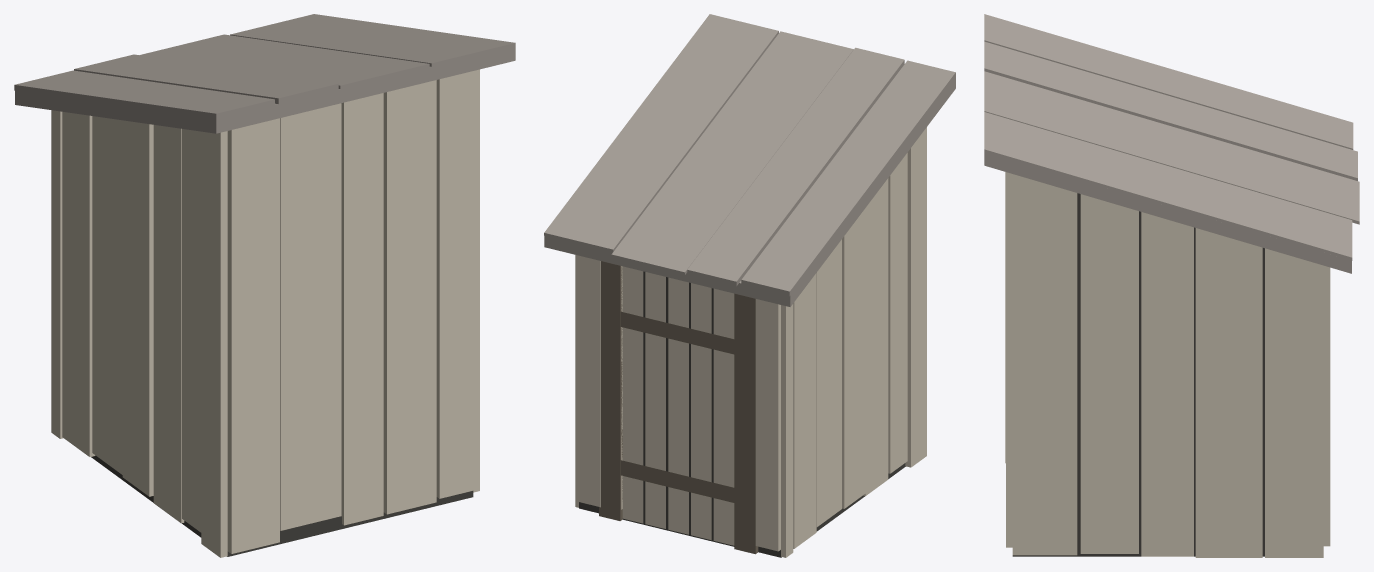
File: recon_1835_north_a3_051__inferred_1835.glb
3 views of the same model, side by side, from view 1: azimuth 30°, elevation 25°; view 2: azimuth 150°, elevation 25°; view 3: azimuth 270°, elevation 25° (orthographic). The views are drawn at different scales.
Visible parts, largest first — view 1: recon_1835_north_a3_051__inferred_1835; view 2: recon_1835_north_a3_051__inferred_1835; view 3: recon_1835_north_a3_051__inferred_1835.
Boxes of the visible parts, x1,y1,x2,y2 form: recon_1835_north_a3_051__inferred_1835: (14, 14, 515, 557); recon_1835_north_a3_051__inferred_1835: (544, 14, 955, 557); recon_1835_north_a3_051__inferred_1835: (984, 14, 1359, 557).
Bounding box in the file's own units: 1.86 × 2.73 × 2.21.
